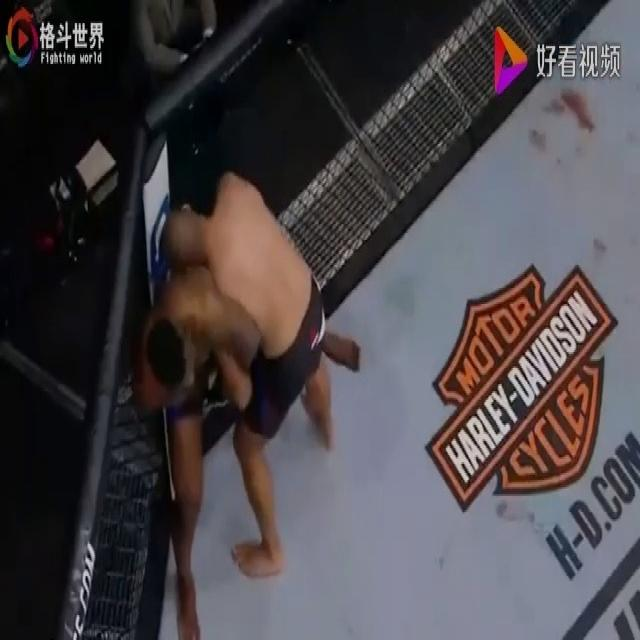fight: (119, 16, 375, 631)
